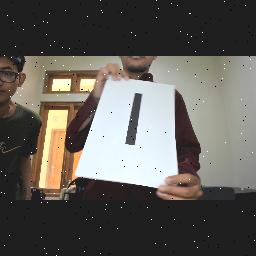i: (124, 89, 144, 149)
